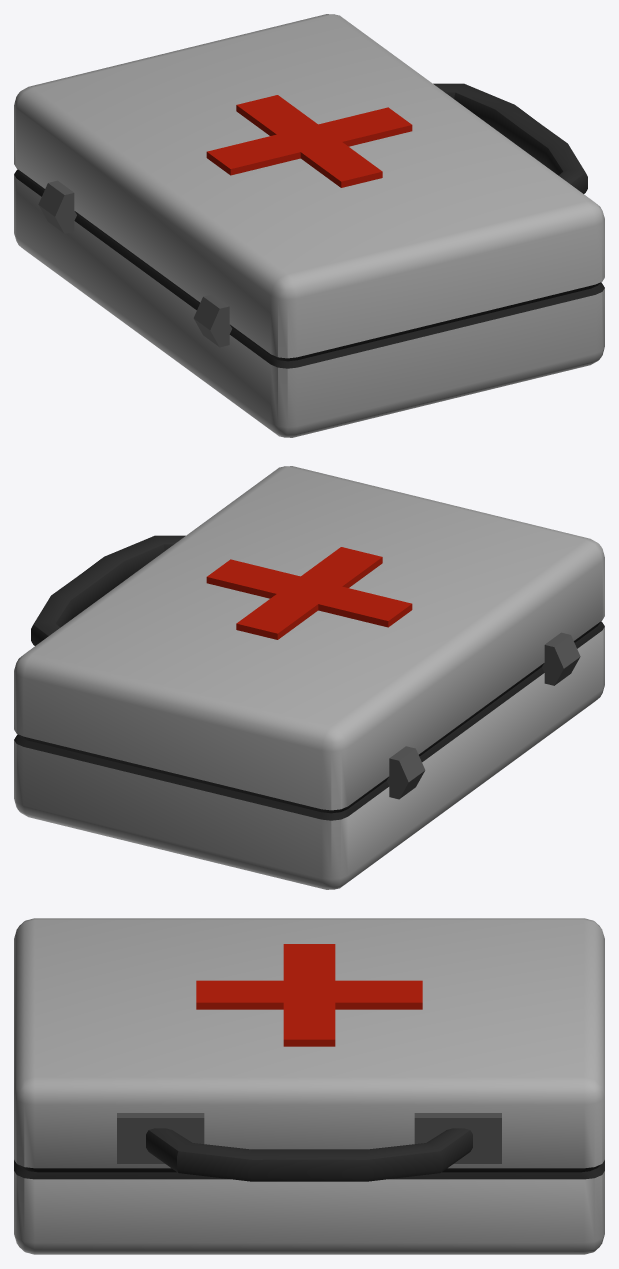
Rendered from medkit.fbx.
3 views of the same model, one above another, from view 1: azimuth 30°, elevation 25°; view 2: azimuth 150°, elevation 25°; view 3: azimuth 270°, elevation 25° (orthographic). The views are drawn at different scales.
Parts seen in each view (by area): view 1: saglik kiti; view 2: saglik kiti; view 3: saglik kiti.
Boxes of the visible parts, bbox=[...] form: saglik kiti: bbox=[14, 14, 604, 437]; saglik kiti: bbox=[14, 466, 604, 889]; saglik kiti: bbox=[14, 918, 604, 1254].
Bounding box in the file's own units: 65.24 × 25.15 × 73.78.
